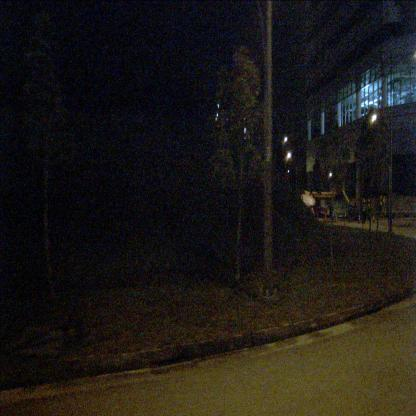human-pedestrian-adult: (362, 199, 367, 225), (328, 203, 334, 224), (367, 198, 372, 220), (348, 201, 352, 223)
movable_object-trafficcone: (334, 212, 338, 222), (372, 214, 376, 223), (357, 214, 361, 223)
